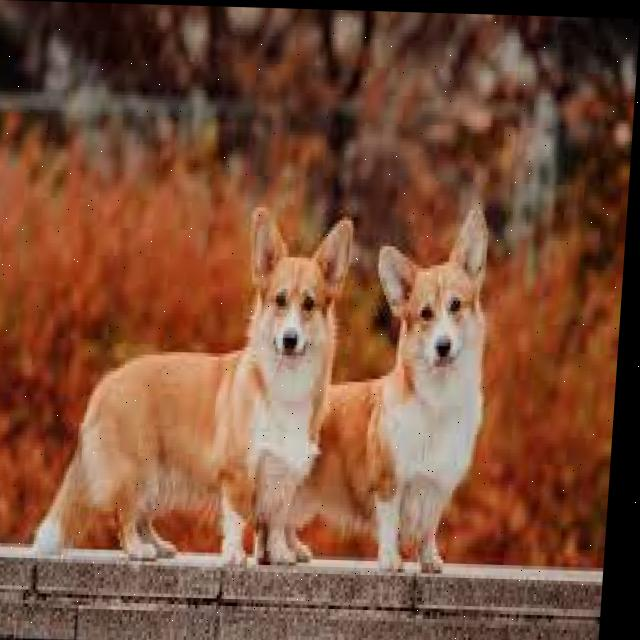CORGI: (46, 204, 354, 605), (312, 195, 503, 582)
